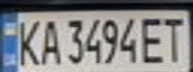3: (63, 16, 84, 65)
4: (118, 15, 142, 65), (81, 15, 103, 65)
9: (100, 15, 121, 64)
A: (36, 16, 63, 66)
E: (139, 14, 169, 65)
K: (12, 16, 42, 68)
T: (157, 14, 190, 63)
